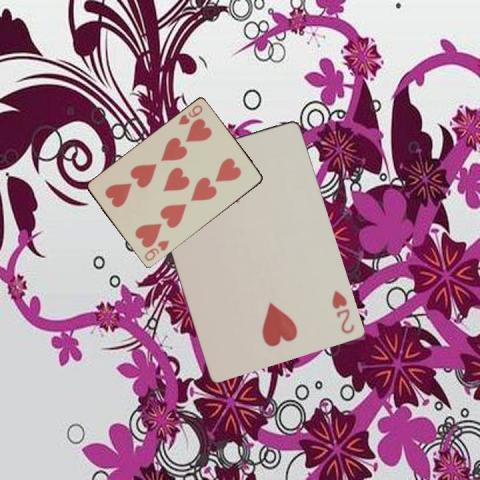2h: (328, 287, 355, 335)
9h: (141, 237, 171, 263), (175, 102, 204, 127)
